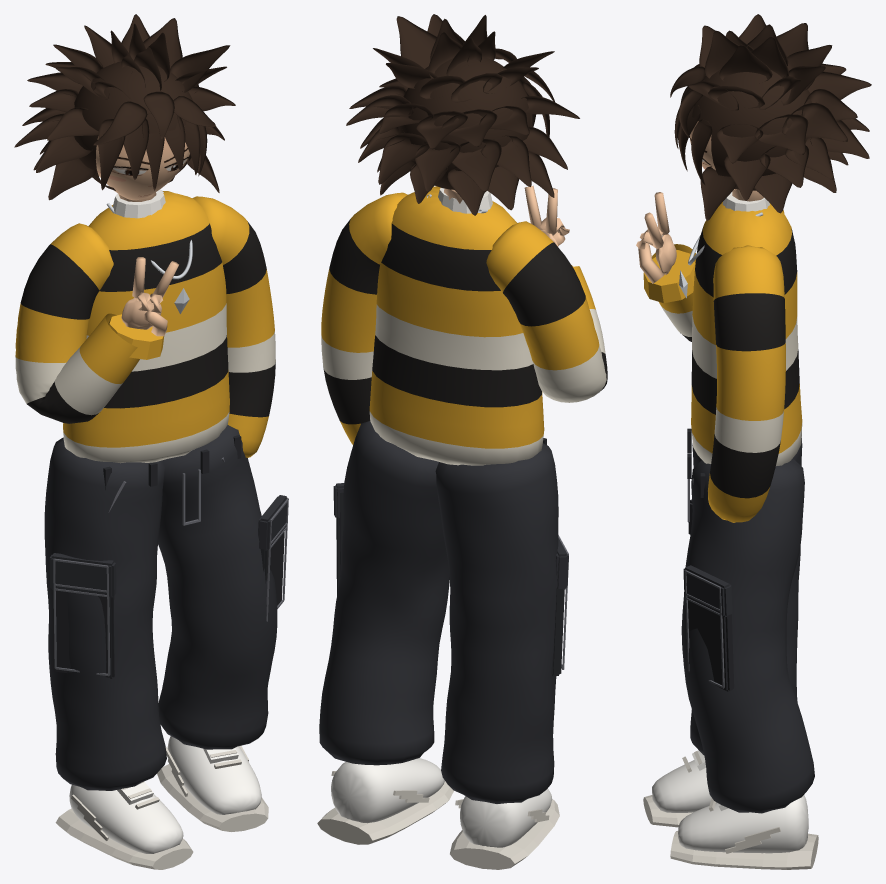
Rendered from personaggio.glb.
3 renders of one model, left to right at view 1: azimuth 30°, elevation 25°; view 2: azimuth 150°, elevation 25°; view 3: azimuth 270°, elevation 25°, orthographic. The views are drawn at different scales.
Visible parts, largest first — view 1: gamba_destra, gamba_sinistra, maglione, capelli, manica_destra, manica_sinistra, calotta, scarpa_destra_tomaia, scarpa_sinistra_tomaia, scarpa_destra_suola, cranio, scarpa_sinistra_suola (+7 smaller); view 2: gamba_destra, maglione, gamba_sinistra, capelli, manica_destra, manica_sinistra, calotta, scarpa_sinistra_tomaia, scarpa_destra_tomaia, scarpa_sinistra_suola, scarpa_destra_suola, tasca_destra_corpo (+1 smaller); view 3: gamba_sinistra, capelli, manica_sinistra, maglione, calotta, scarpa_sinistra_tomaia, scarpa_sinistra_suola, scarpa_destra_tomaia, tasca_sinistra_corpo, gamba_destra, polsino, tasca_sinistra_patella (+5 smaller).
Boxes of the visible parts, x1=… form: gamba_destra: x1=44, y1=437, x2=166, y2=790; gamba_sinistra: x1=158, y1=425, x2=277, y2=749; maglione: x1=63, y1=191, x2=229, y2=463; capelli: x1=14, y1=14, x2=235, y2=200; manica_destra: x1=15, y1=223, x2=139, y2=423; manica_sinistra: x1=192, y1=196, x2=275, y2=457; calotta: x1=74, y1=61, x2=192, y2=190; scarpa_destra_tomaia: x1=69, y1=784, x2=183, y2=853; scarpa_sinistra_tomaia: x1=167, y1=736, x2=261, y2=814; scarpa_destra_suola: x1=55, y1=808, x2=193, y2=869; cranio: x1=95, y1=136, x2=189, y2=200; scarpa_sinistra_suola: x1=157, y1=764, x2=268, y2=831; gamba_destra: x1=435, y1=443, x2=558, y2=803; maglione: x1=369, y1=186, x2=544, y2=465; gamba_sinistra: x1=319, y1=421, x2=449, y2=765; capelli: x1=346, y1=14, x2=579, y2=215; manica_destra: x1=486, y1=221, x2=607, y2=402; manica_sinistra: x1=321, y1=192, x2=407, y2=444; calotta: x1=398, y1=57, x2=531, y2=189; scarpa_sinistra_tomaia: x1=331, y1=758, x2=444, y2=823; scarpa_destra_tomaia: x1=460, y1=788, x2=552, y2=847; scarpa_sinistra_suola: x1=317, y1=781, x2=453, y2=844; scarpa_destra_suola: x1=450, y1=799, x2=559, y2=869; tasca_destra_corpo: x1=551, y1=559, x2=564, y2=676; gamba_sinistra: x1=681, y1=459, x2=814, y2=813; capelli: x1=670, y1=14, x2=871, y2=220; manica_sinistra: x1=708, y1=245, x2=785, y2=522; maglione: x1=691, y1=202, x2=802, y2=465; calotta: x1=692, y1=69, x2=811, y2=190; scarpa_sinistra_tomaia: x1=678, y1=795, x2=808, y2=853; scarpa_sinistra_suola: x1=670, y1=831, x2=818, y2=869; scarpa_destra_tomaia: x1=652, y1=760, x2=716, y2=812; tasca_sinistra_corpo: x1=688, y1=600, x2=734, y2=691; gamba_destra: x1=690, y1=438, x2=802, y2=754; polsino: x1=643, y1=250, x2=695, y2=303; tasca_sinistra_patella: x1=683, y1=565, x2=732, y2=617.
Size of the model in its own units: 0.5818 by 1.68 by 0.4524.
Materials: 13 (1 with a texture image).
